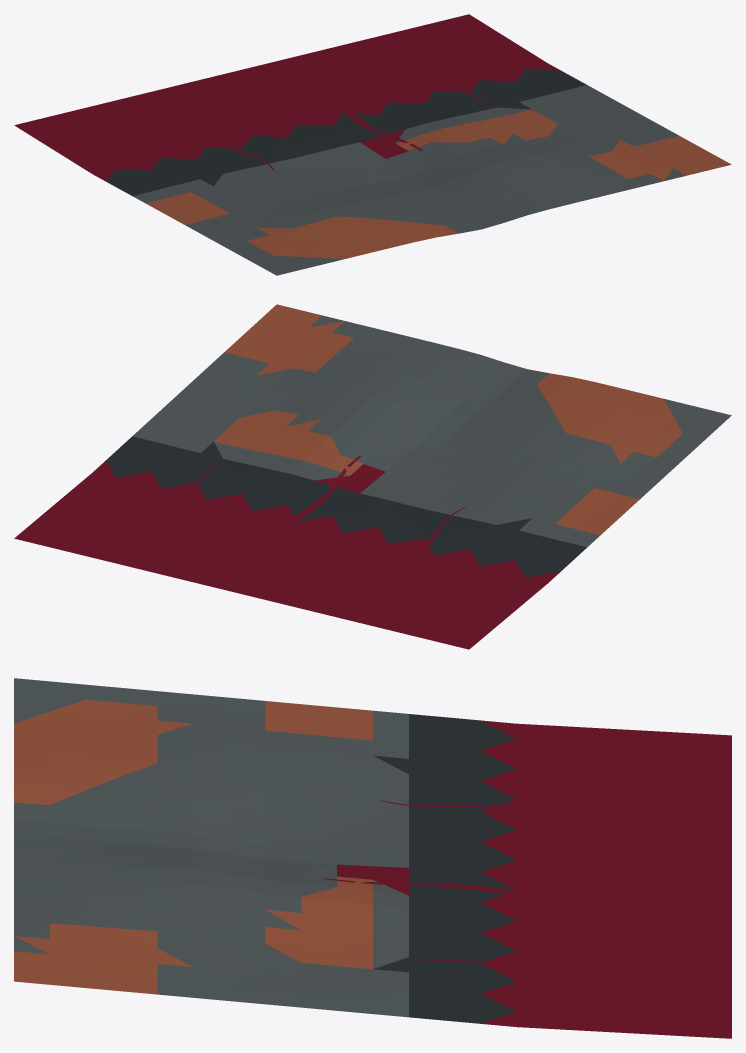
File: terrain_shore.fbx
The picture shows the model from 3 angles, top to bottom: view 1: azimuth 30°, elevation 25°; view 2: azimuth 150°, elevation 25°; view 3: azimuth 270°, elevation 25°; orthographic projection. The views are drawn at different scales.
Parts seen in each view (by area): view 1: terrain_shore; view 2: terrain_shore; view 3: terrain_shore.
Part boxes in pixels (left/top/right/bottom): terrain_shore: left=14, top=14, right=731, bottom=275; terrain_shore: left=14, top=304, right=731, bottom=649; terrain_shore: left=14, top=678, right=731, bottom=1038.
Size of the model in its own units: 20 by 1.76 by 20.
